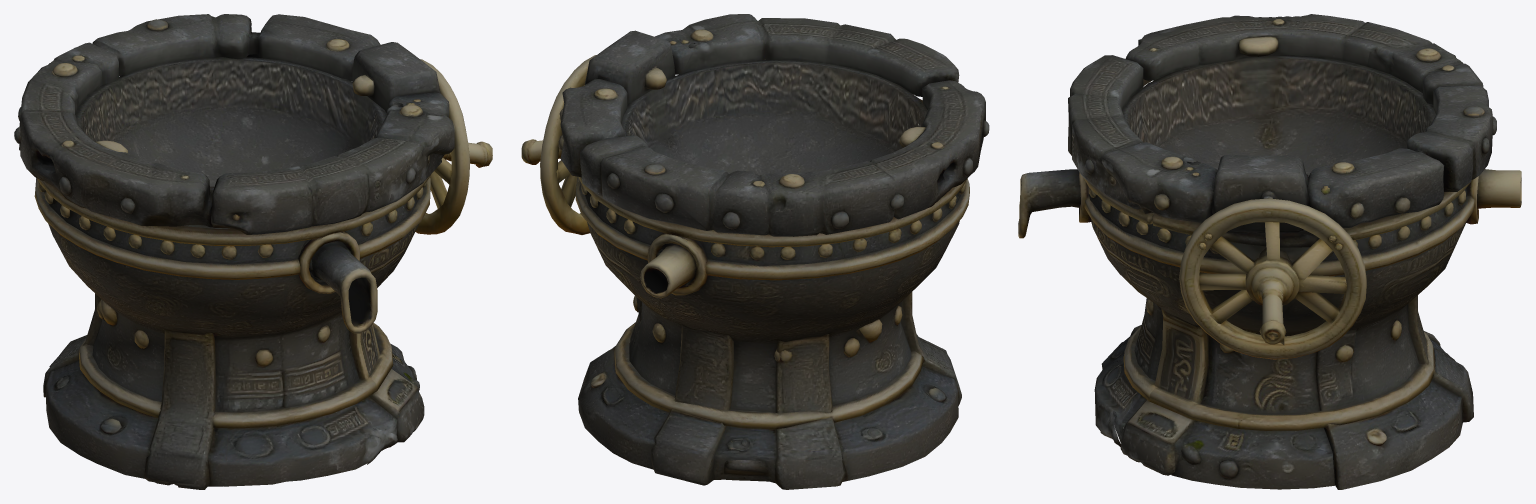
Rendered from ch2_hydraulic_cistern_valve.glb.
The picture shows the model from 3 angles, left to right: view 1: azimuth 30°, elevation 25°; view 2: azimuth 150°, elevation 25°; view 3: azimuth 270°, elevation 25°; orthographic projection.
Visible parts, largest first — view 1: tripo_node_84130d39-5f79-4c77-8b50-4e8281992308; view 2: tripo_node_84130d39-5f79-4c77-8b50-4e8281992308; view 3: tripo_node_84130d39-5f79-4c77-8b50-4e8281992308.
Boxes of the visible parts, x1=… form: tripo_node_84130d39-5f79-4c77-8b50-4e8281992308: x1=14, y1=14, x2=492, y2=489; tripo_node_84130d39-5f79-4c77-8b50-4e8281992308: x1=521, y1=14, x2=989, y2=489; tripo_node_84130d39-5f79-4c77-8b50-4e8281992308: x1=1018, y1=14, x2=1521, y2=489.
Size of the model in its own units: 0.998 by 0.6973 by 0.9902.
1 material, 1 textured.
